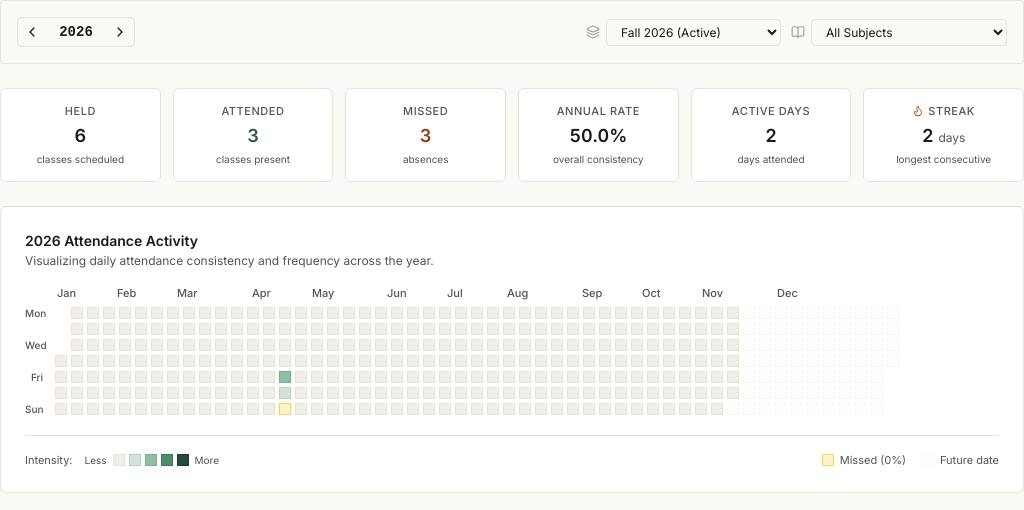
AttendanceHeatmap Component › allows switching years using year navigation buttons
Click the button named "previous year".
click(32, 32)  # box [20,20,44,44]
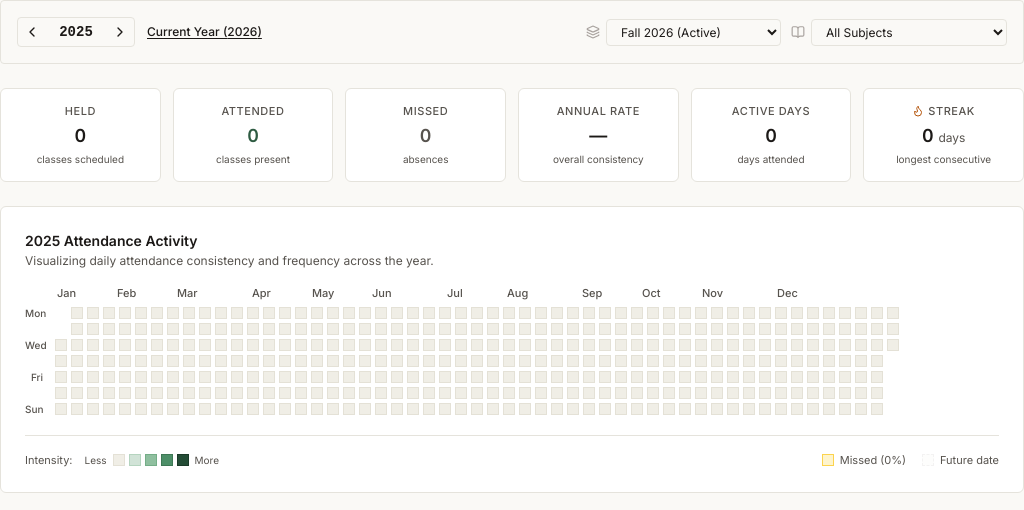
expect the text "2025" is shown: met, box [59,24,93,40]
Click the button named "next year".
click(120, 32)  # box [108,20,132,44]
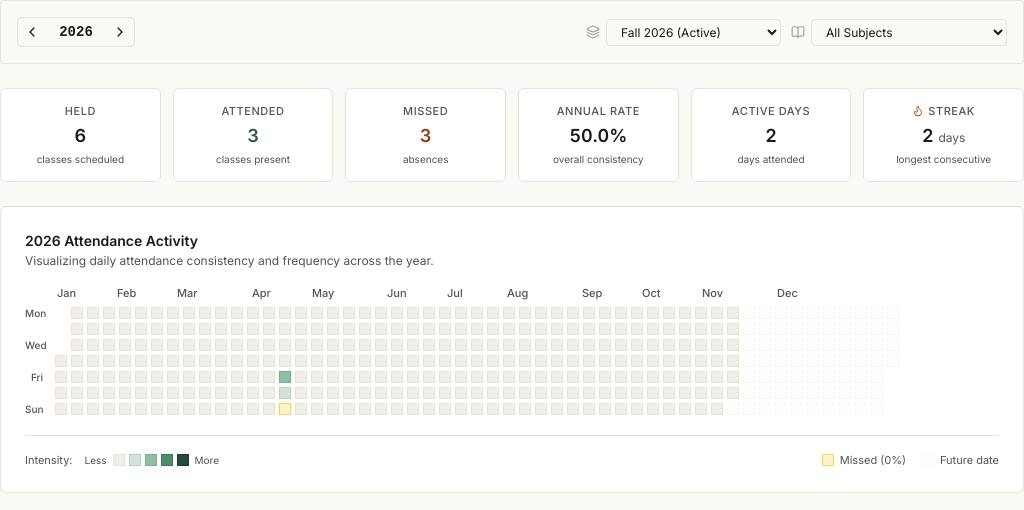
expect the text "2026" is shown: met, box [59,24,93,40]
